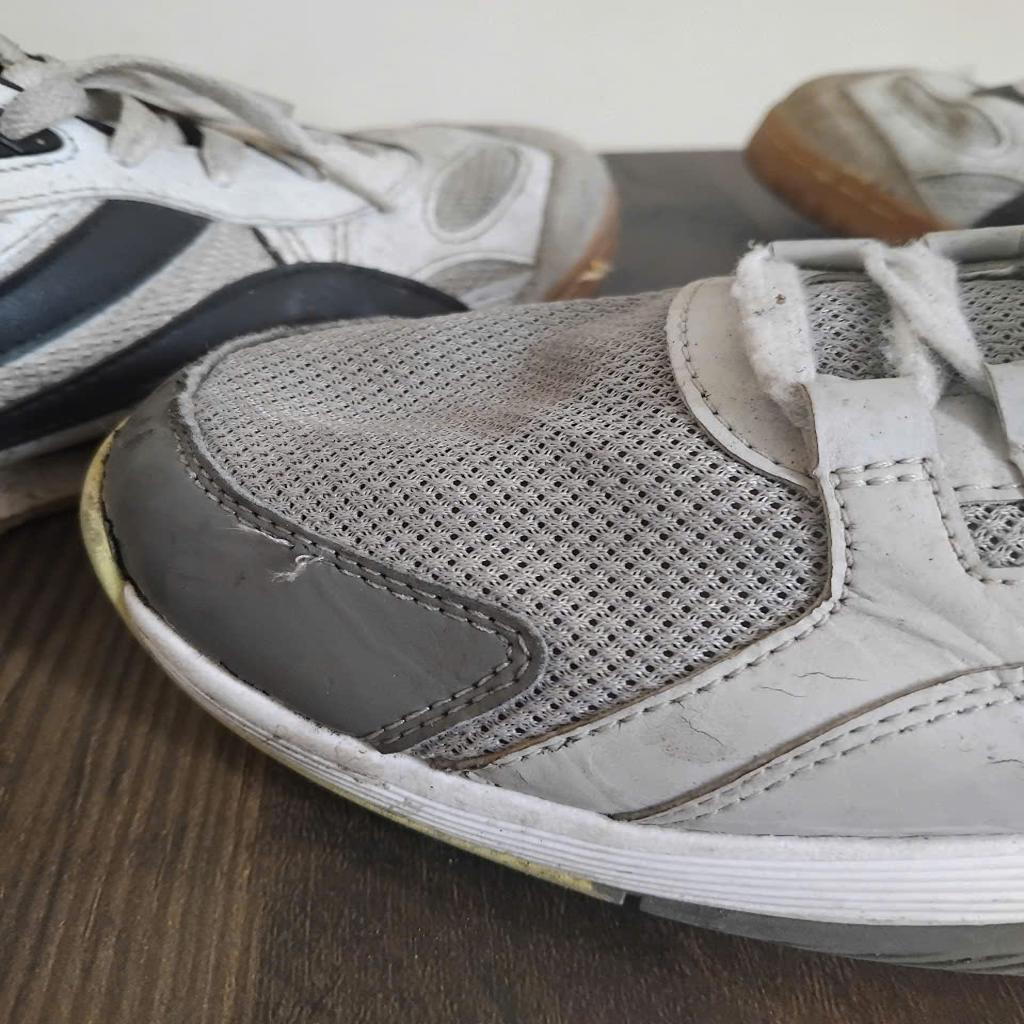broken: (239, 525, 327, 583)
